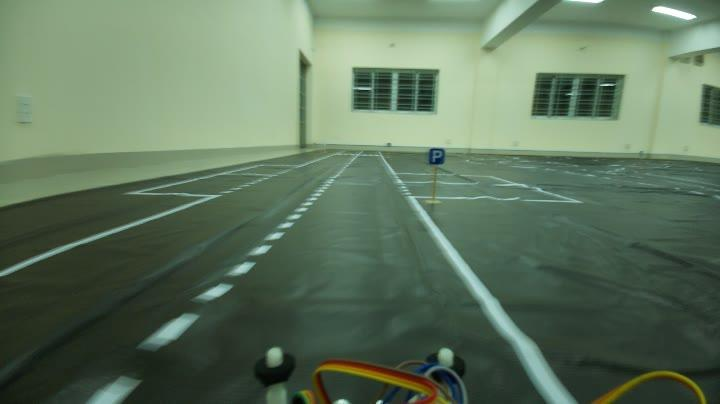parking: (424, 142, 448, 164)
